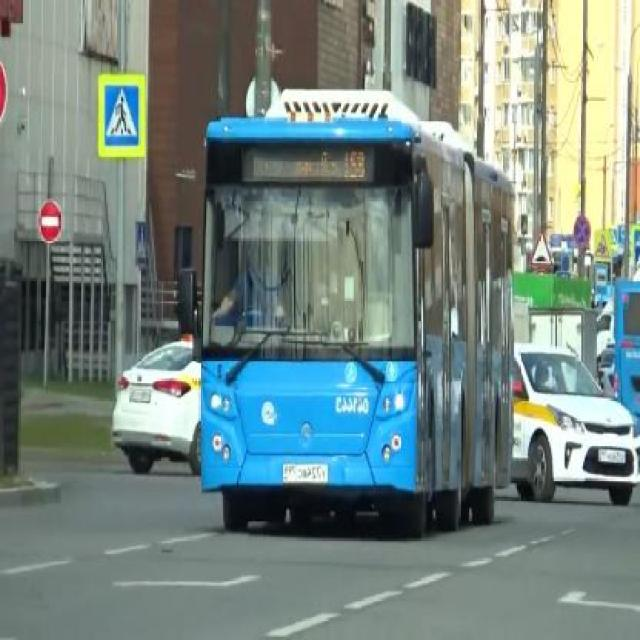bus: (204, 87, 513, 536)
car: (520, 337, 640, 511), (104, 335, 199, 477)
